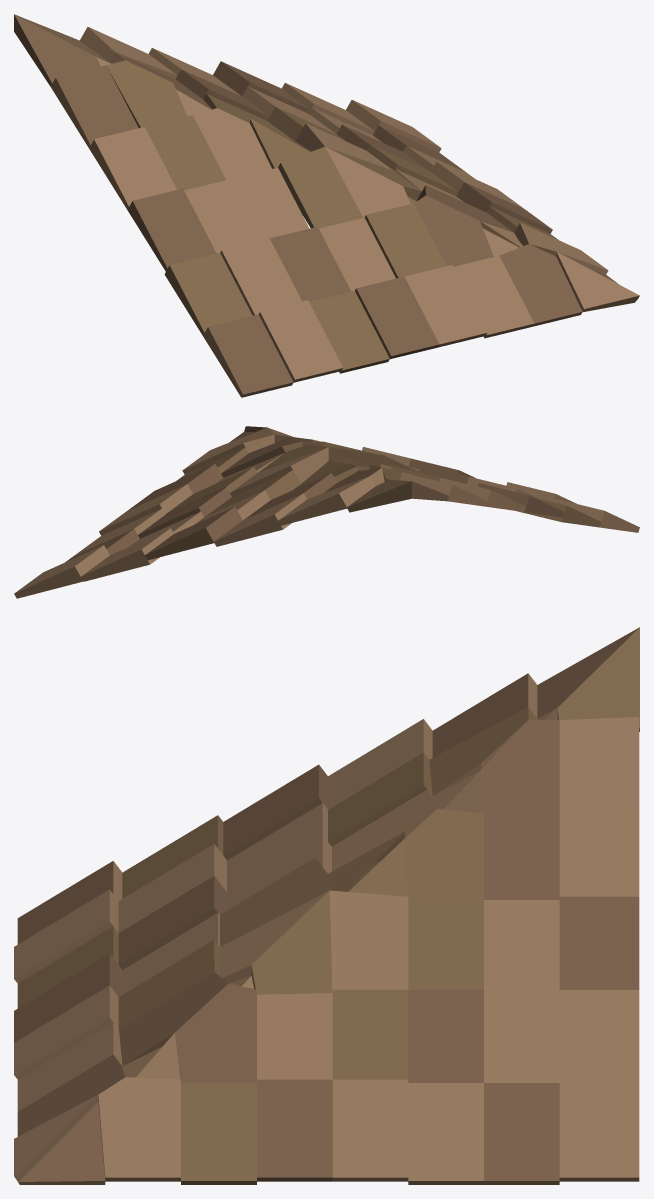
The model's file is steampunk_roof_corner.fbx.
3 views of the same model, one above another, from view 1: azimuth 30°, elevation 25°; view 2: azimuth 150°, elevation 25°; view 3: azimuth 270°, elevation 25° (orthographic). The views are drawn at different scales.
Visible parts, largest first — view 1: Cube.030; view 2: Cube.030; view 3: Cube.030.
Part boxes in pixels (<box>): Cube.030: <box>14,14,639,397</box>; Cube.030: <box>14,426,639,598</box>; Cube.030: <box>14,627,639,1184</box>.
Bounding box in the file's own units: 3.06 × 1.6 × 3.06.
